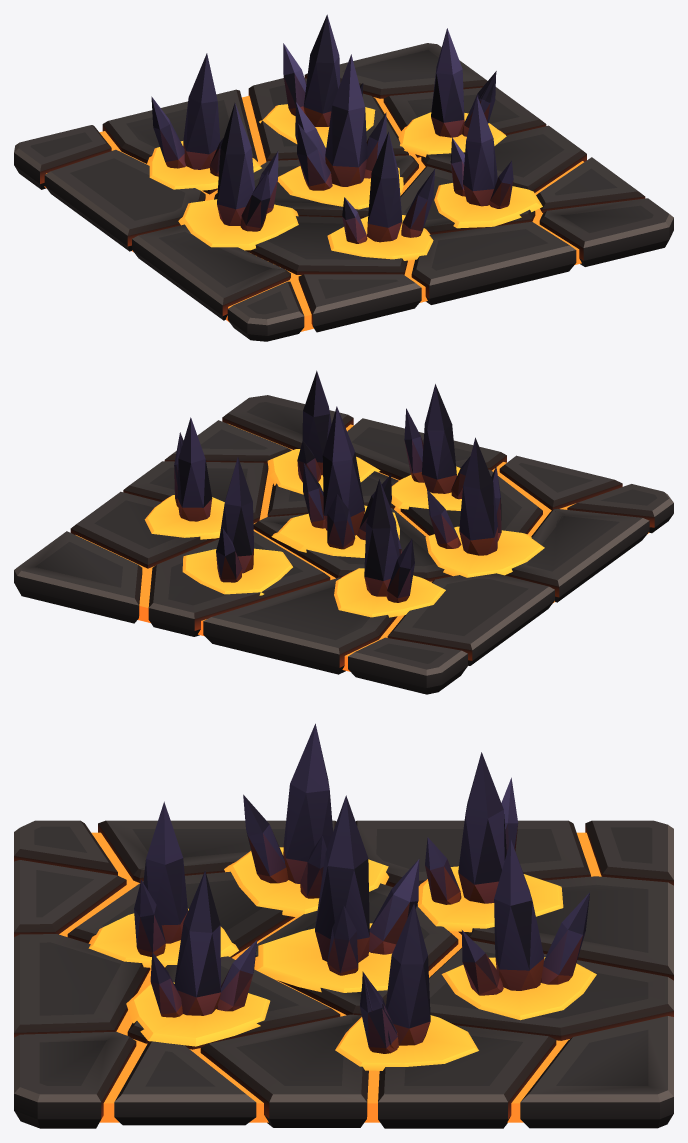
Rendered from spikes_volcano.glb.
The picture shows the model from 3 angles, top to bottom: view 1: azimuth 30°, elevation 25°; view 2: azimuth 150°, elevation 25°; view 3: azimuth 270°, elevation 25°; orthographic projection. The views are drawn at different scales.
Parts seen in each view (by area): view 1: spikes_volcano; view 2: spikes_volcano; view 3: spikes_volcano.
Boxes of the visible parts, left/top/right/bottom form: spikes_volcano: left=14, top=14, right=673, bottom=341; spikes_volcano: left=14, top=370, right=673, bottom=694; spikes_volcano: left=14, top=723, right=673, bottom=1128.
Bounding box in the file's own units: 2 × 0.679 × 2.
